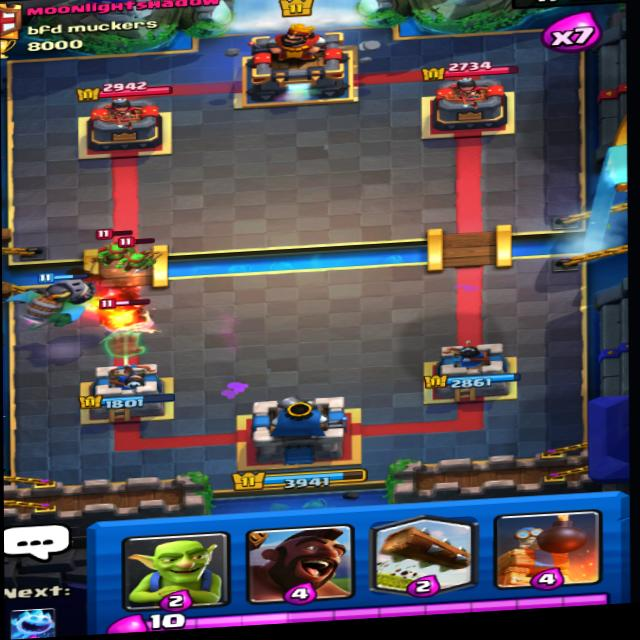monk: (88, 296, 162, 345)
monk-ability: (91, 294, 157, 341)
spear-goblin: (117, 245, 160, 275), (95, 236, 140, 264)
